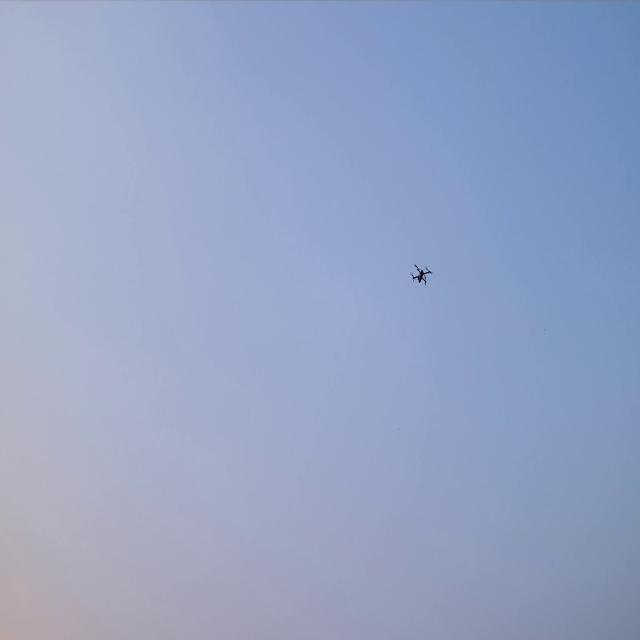UAV: (409, 261, 434, 288)
